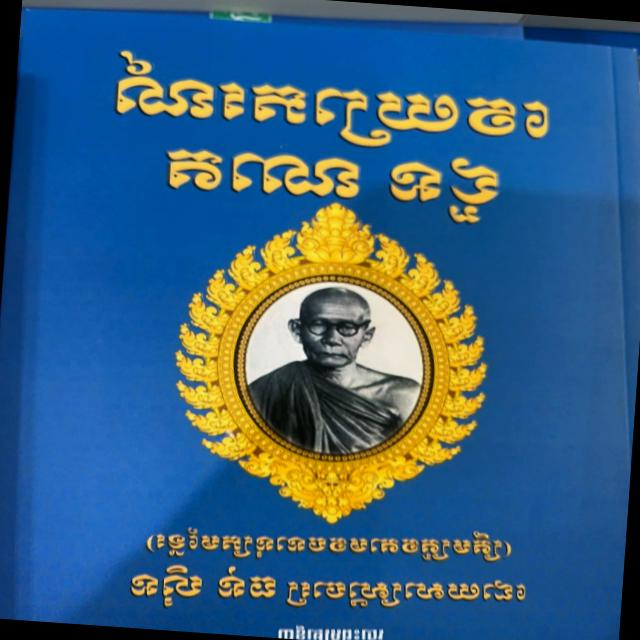1: (158, 138, 514, 230)
2: (128, 566, 534, 608)
Yolov11kh: (99, 45, 557, 160), (137, 525, 511, 567)
